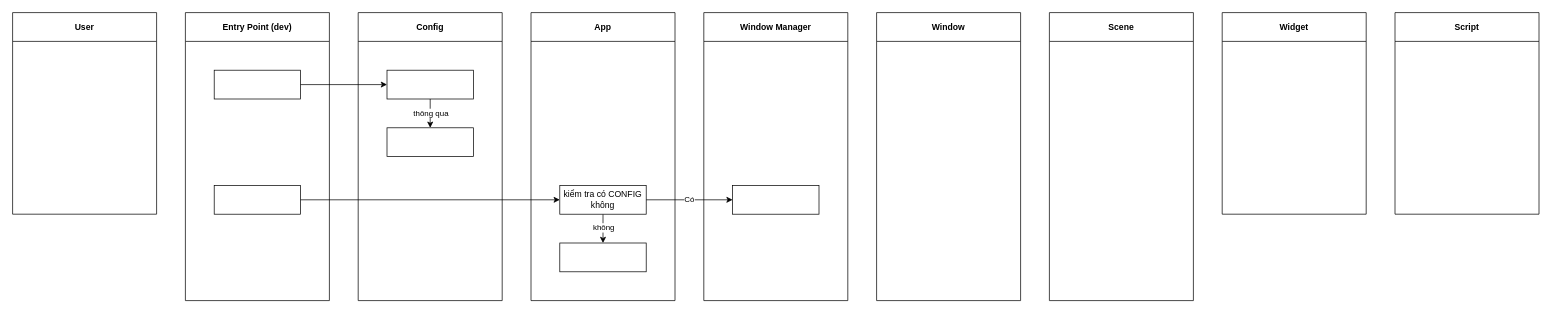
Image size: 1552x313. Some labels were removed from this diagram. The centre of each missing label's shape, as x and y in pixels:
__init__: point (257, 84)
báo lỗi: "chưa thêm cấu hình (config.toml) để chạy.": point (602, 257)
kiểm tra và nhập file config (.toml): point (429, 84)
lưu vào biến CONFIG: point (429, 142)
run: point (257, 199)
